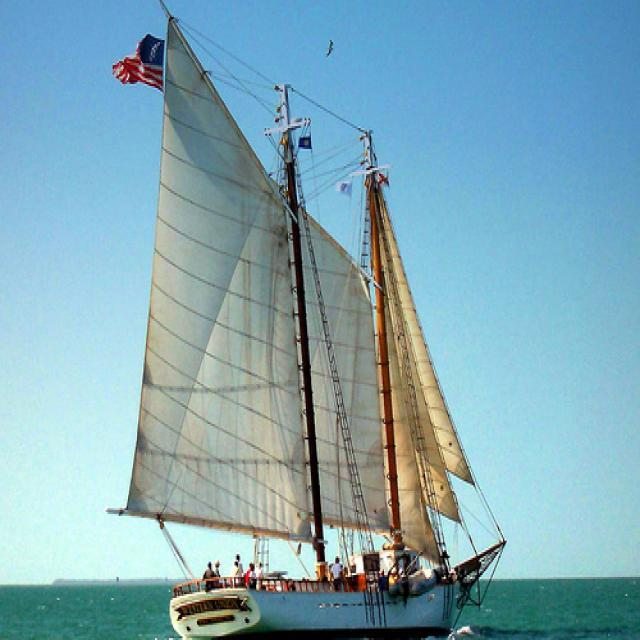Ship: (104, 4, 514, 635)
